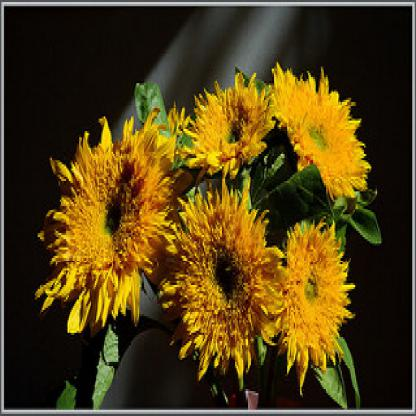SUN FLOWER: (16, 53, 382, 394)
